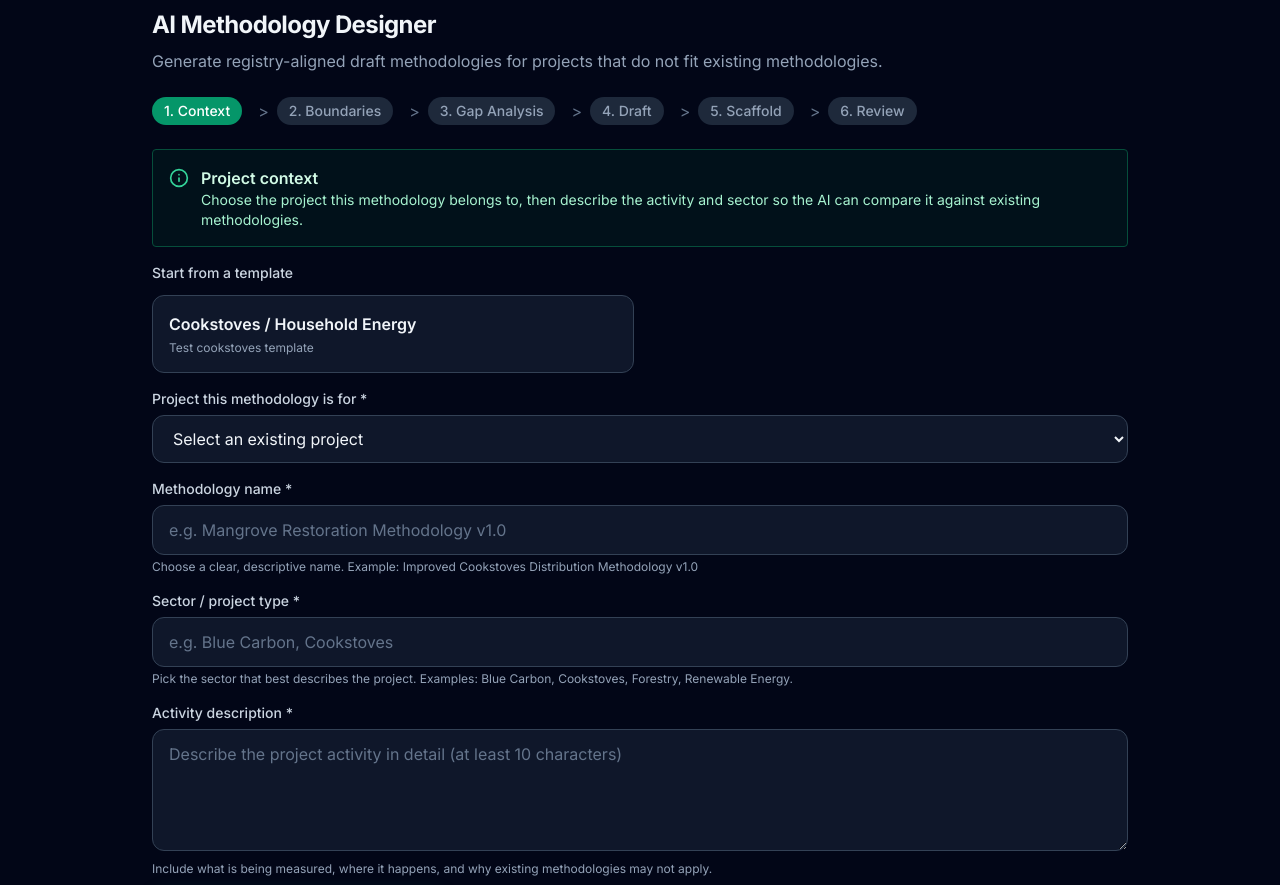
Test case: MethodologyDesignerPage › pre-fills form when a template is selected
The image size is (1280, 885).
Click the text "Cookstoves / Household Energy": (293, 324) [169,314,416,334]
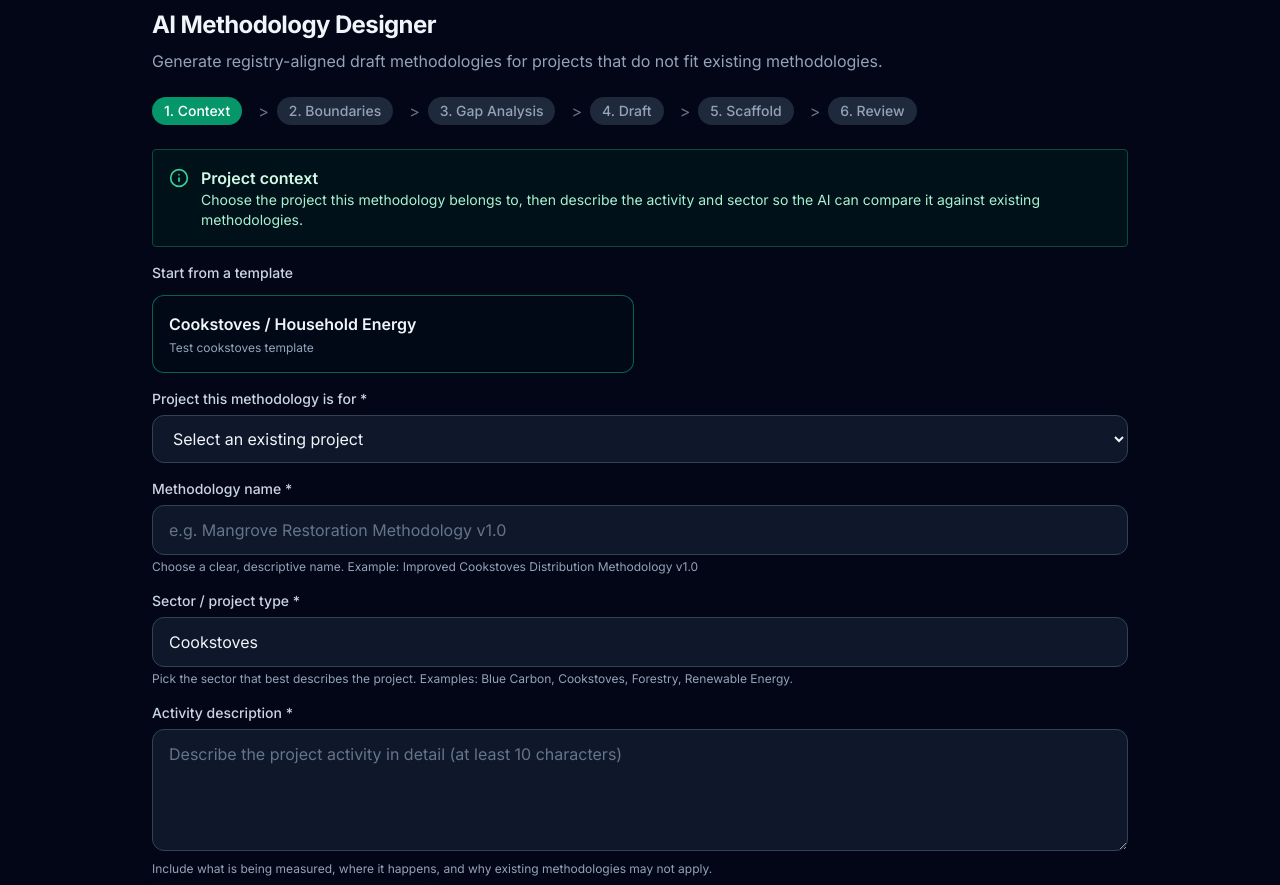
Check: the field showing "Cookstoves" is shown, box [152,617,1128,667]
Select "Test Project" in the dropdown labelled "Project this methodology is for *": (640, 439) [152,415,1128,463]
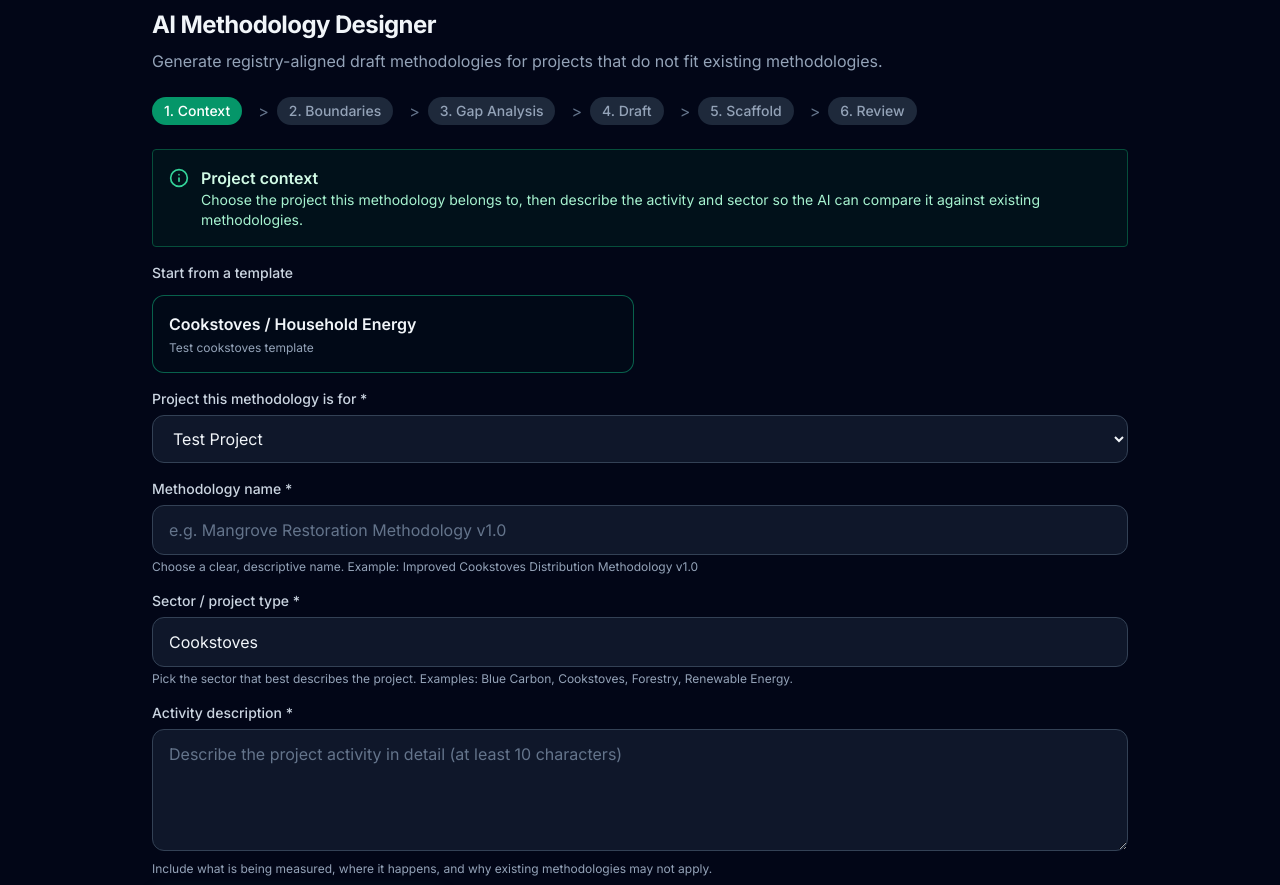
In the field labelled "Methodology name *": (640, 530) [152,505,1128,555], type "Test Methodology"
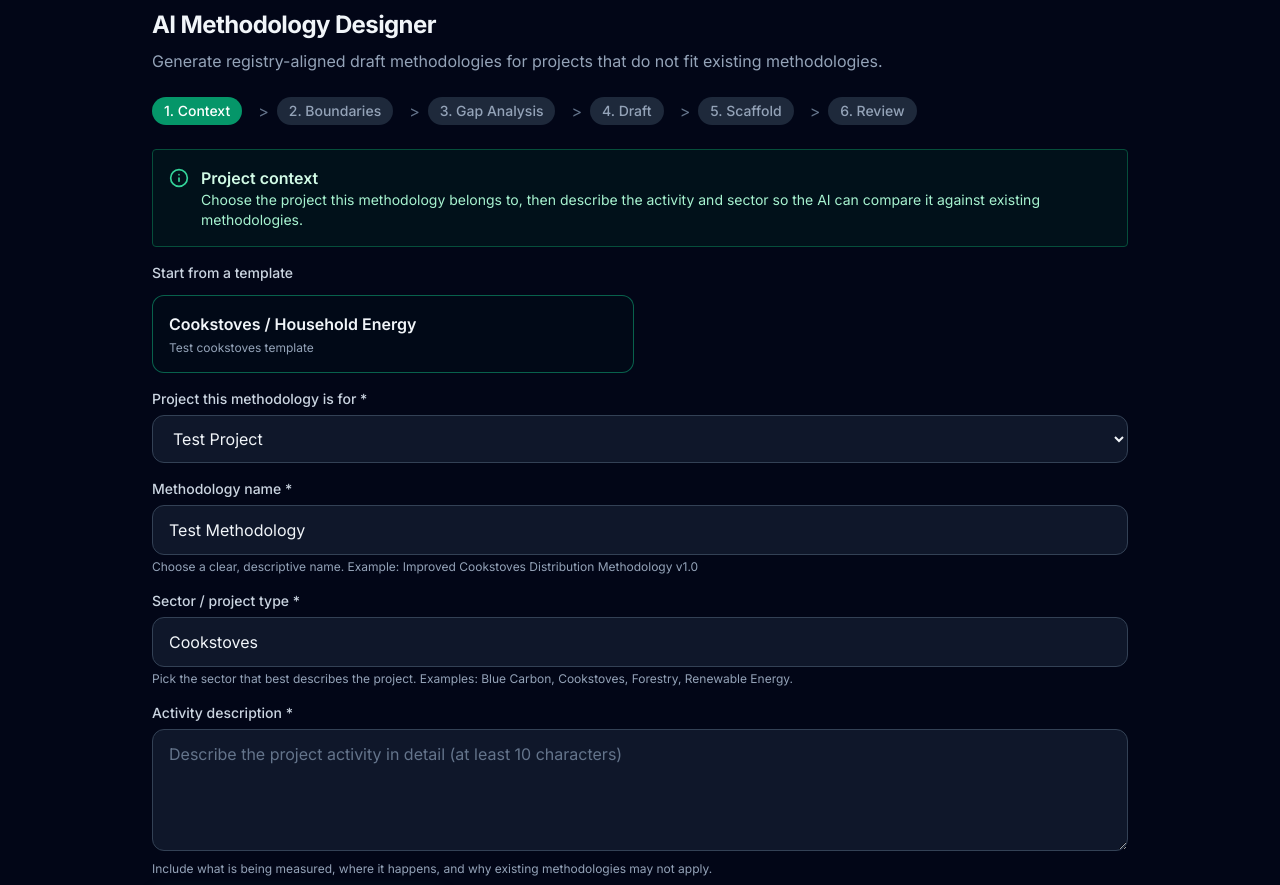
Replace the text in the field labelled "Sector / project type *" with "Test Sector": (640, 642) [152,617,1128,667]
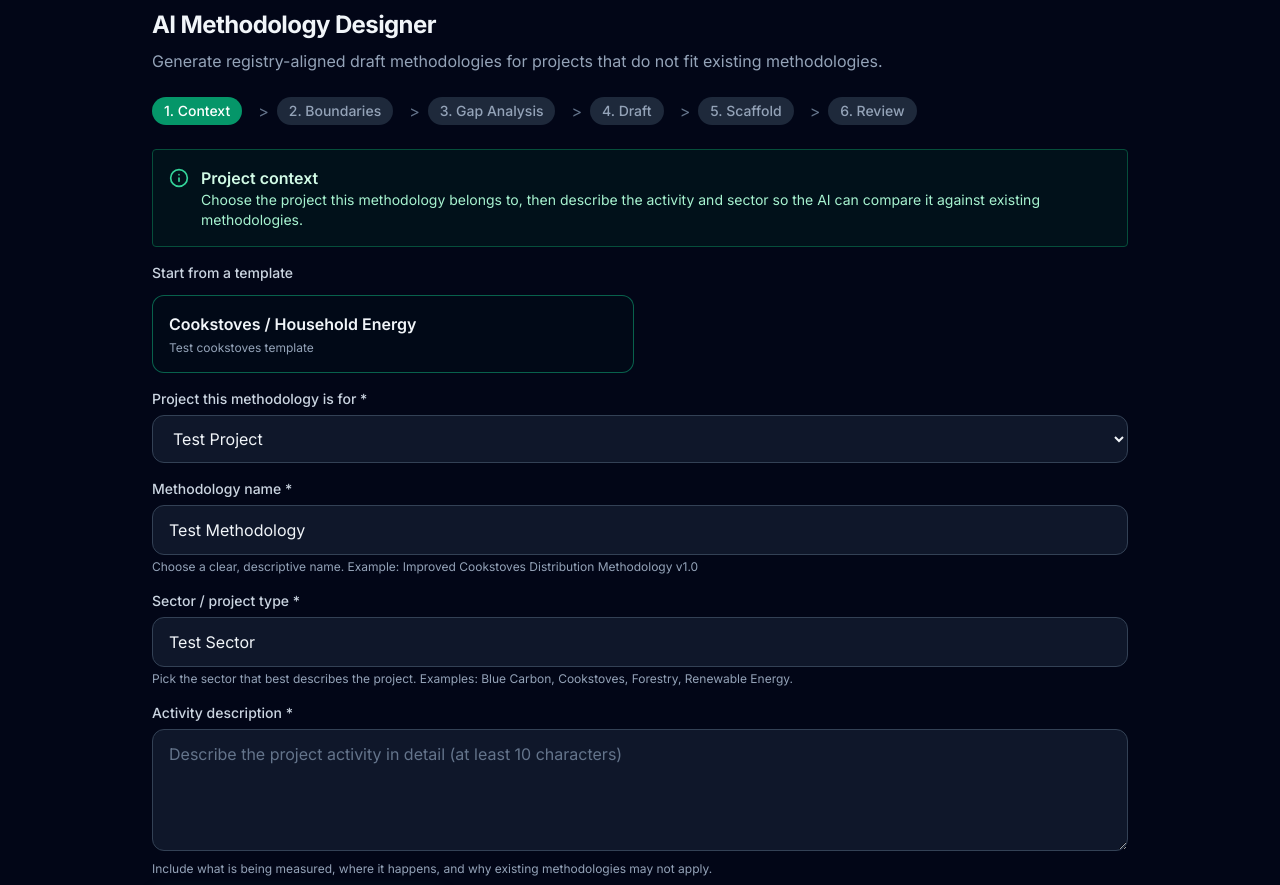
Replace the text in the text box labelled "Activity description *" with "A detailed activity description for testing.": (640, 790) [152,729,1128,851]
(page scrolled)
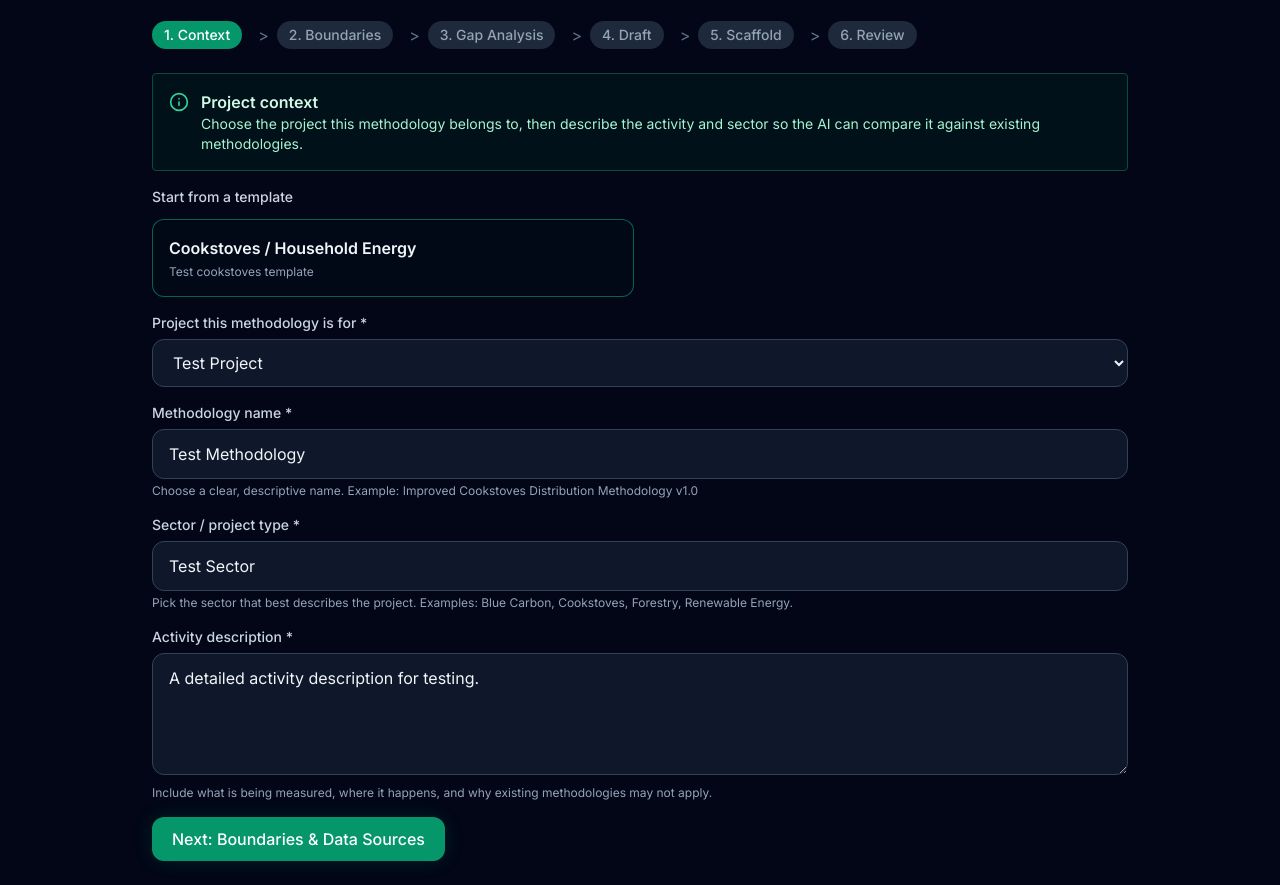
Click the button "Next: Boundaries & Data Sources": (298, 839) [152,817,445,861]
(page scrolled)
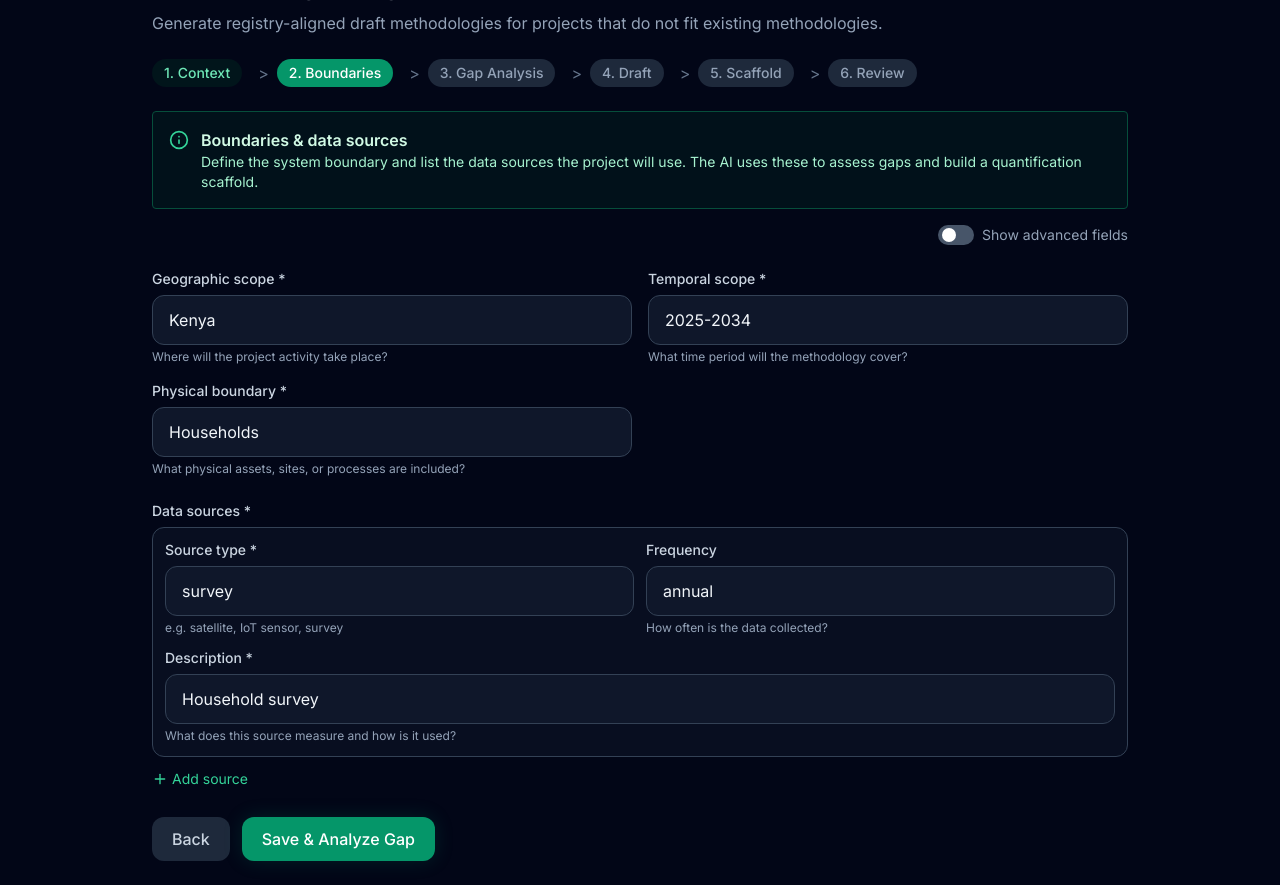
Check: the field showing "Kenya" is shown, box [152,295,632,345]
